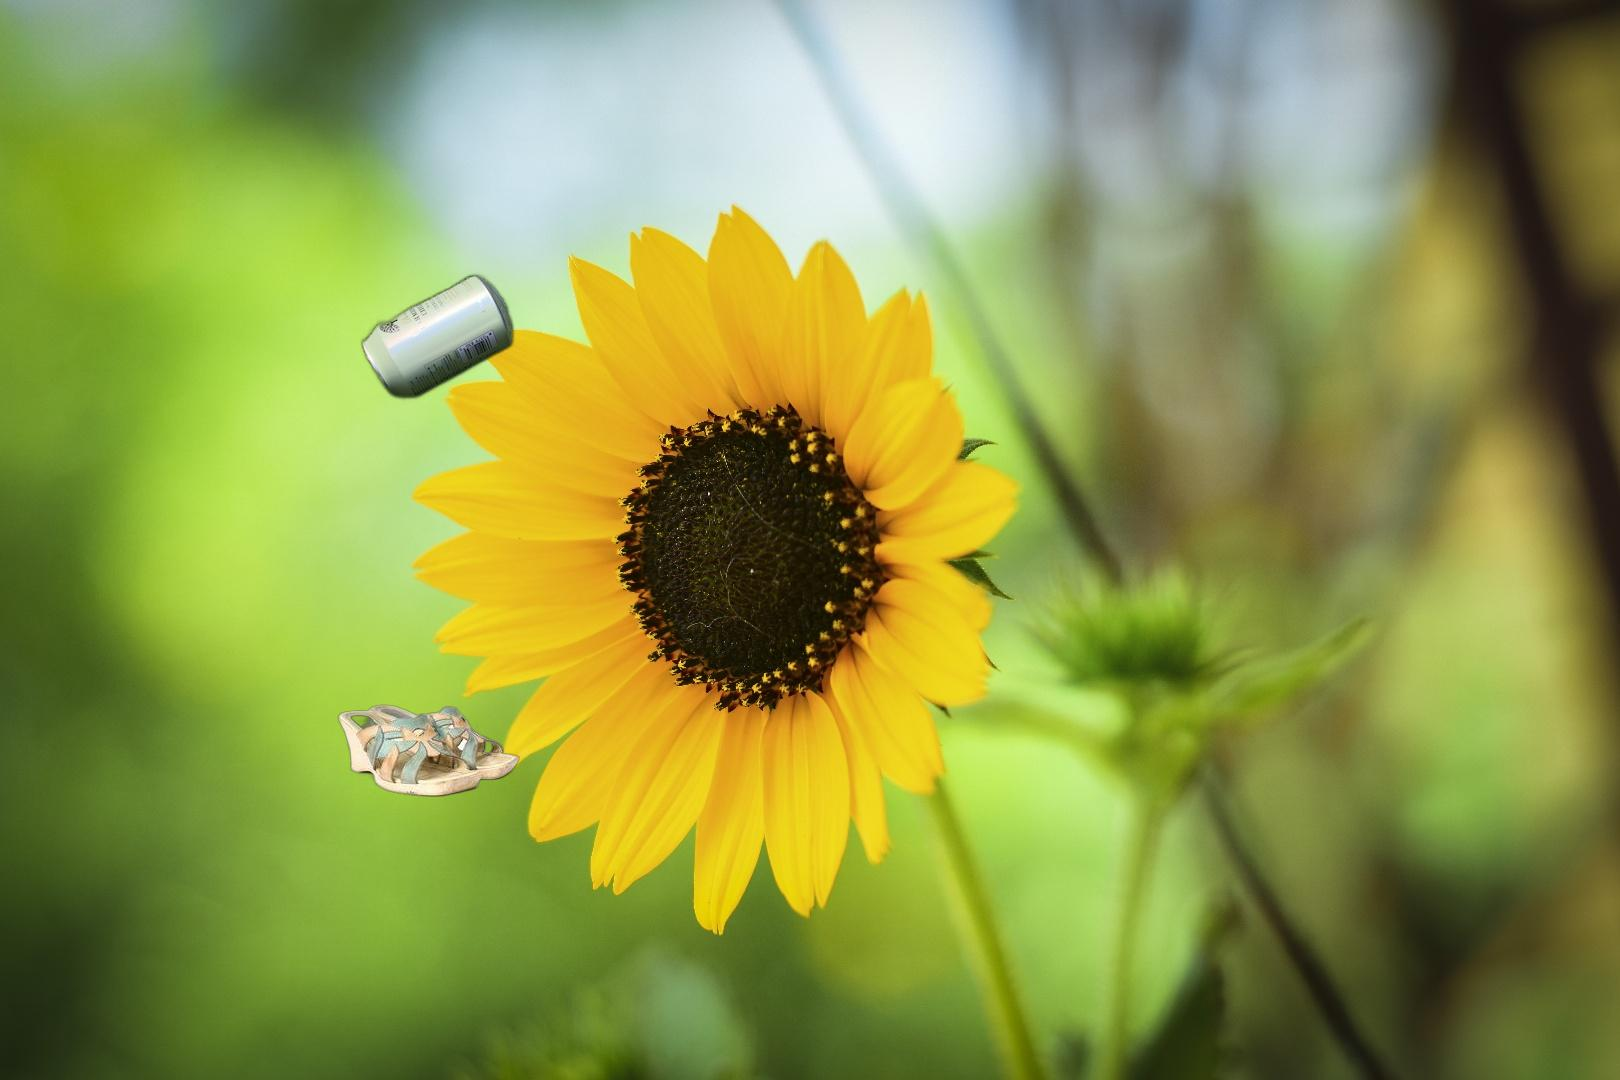metal-cans: (357, 269, 517, 405)
shoes: (336, 702, 522, 800)
